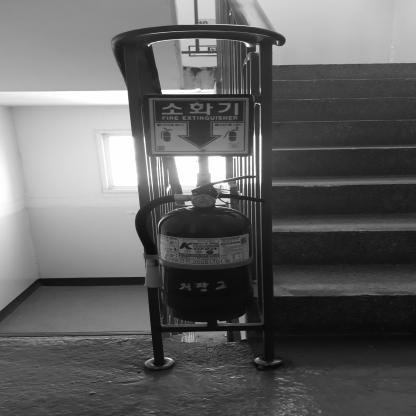FE: (156, 175, 257, 321)
